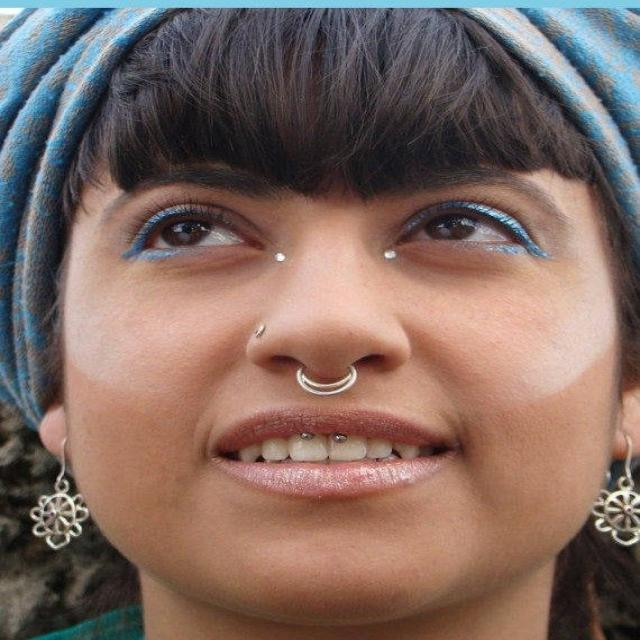Earring: (21, 426, 100, 560), (586, 413, 640, 559)
